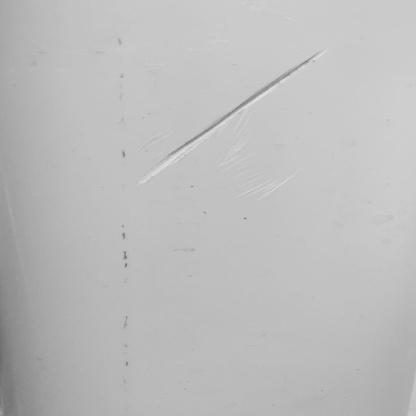sunshang: (140, 50, 322, 183)
